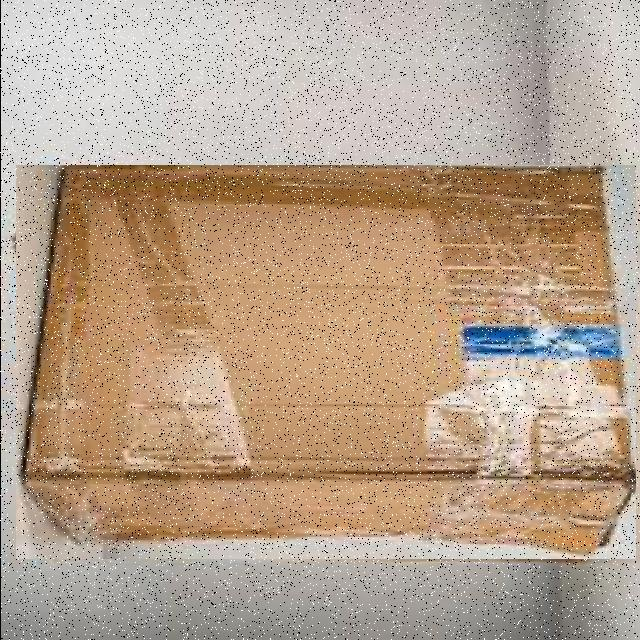defect: (15, 164, 636, 558)
